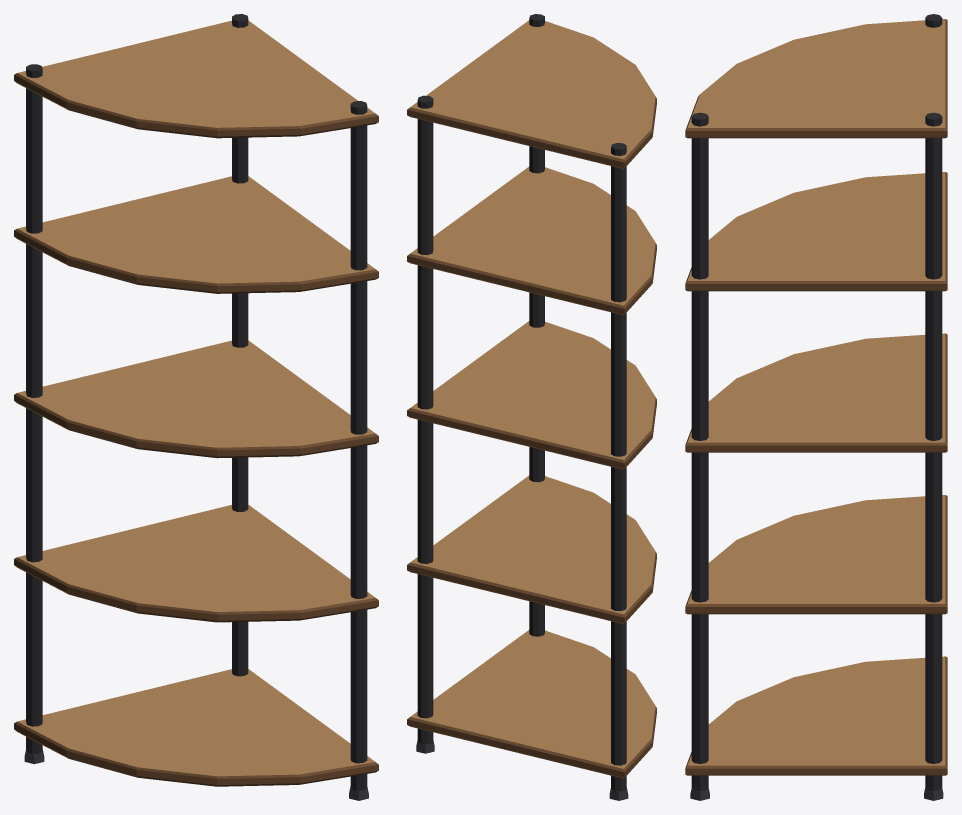
The model's file is FN_Shelf_Corner.glb.
3 views of the same model, side by side, from view 1: azimuth 30°, elevation 25°; view 2: azimuth 150°, elevation 25°; view 3: azimuth 270°, elevation 25° (orthographic). The views are drawn at different scales.
Visible parts, largest first — view 1: FN_Shelf_Corner; view 2: FN_Shelf_Corner; view 3: FN_Shelf_Corner.
Part boxes in pixels (x1,y1,x2,y2): FN_Shelf_Corner: (14, 14, 378, 800); FN_Shelf_Corner: (407, 14, 656, 800); FN_Shelf_Corner: (685, 14, 947, 800).
Bounding box in the file's own units: 0.56 × 1.6 × 0.56.
Materials: 1 (1 with a texture image).
